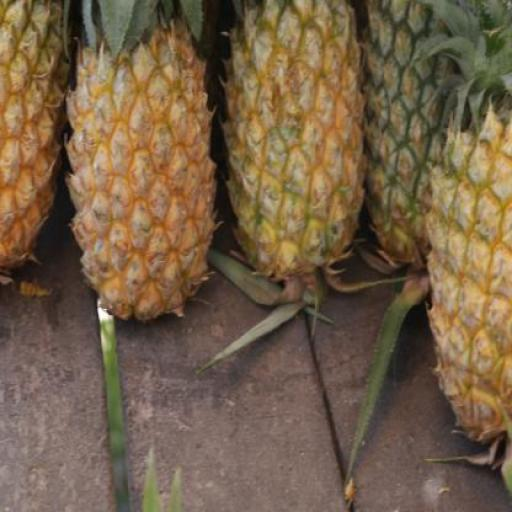------------------------------: (220, 0, 368, 271)
Pineapple - v8 v1: (67, 21, 217, 320), (0, 0, 72, 258)
